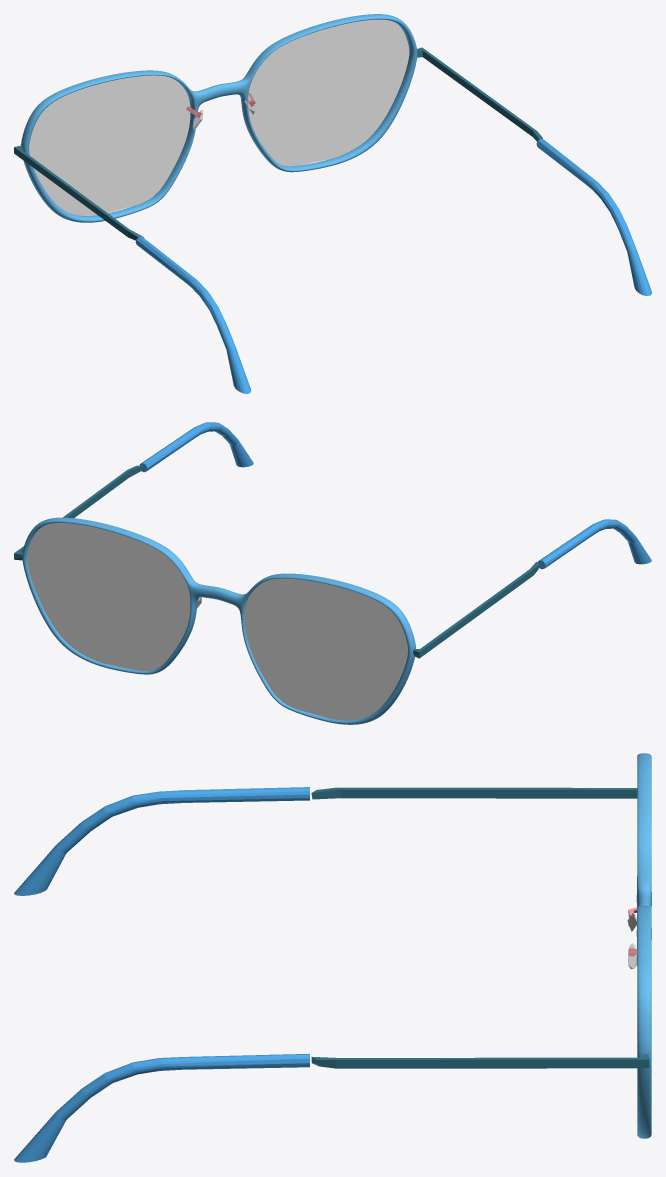
The picture shows the model from 3 angles, top to bottom: view 1: azimuth 30°, elevation 25°; view 2: azimuth 150°, elevation 25°; view 3: azimuth 270°, elevation 25°; orthographic projection. The views are drawn at different scales.
Parts seen in each view (by area): view 1: Plane.001, Plane, Circle, Cube; view 2: Plane.001, Plane, Circle, Cube; view 3: Circle, Cube, Plane.
Boxes of the visible parts, bbox=[...] form: Plane.001: bbox=[29, 19, 409, 215]; Plane: bbox=[21, 14, 417, 222]; Circle: bbox=[135, 139, 651, 393]; Cube: bbox=[14, 47, 542, 240]; Plane.001: bbox=[27, 523, 407, 720]; Plane: bbox=[22, 517, 415, 724]; Circle: bbox=[139, 422, 651, 569]; Cube: bbox=[14, 465, 539, 658]; Circle: bbox=[14, 787, 309, 1162]; Cube: bbox=[311, 787, 649, 1068]; Plane: bbox=[636, 753, 651, 1138].
Size of the model in its own units: 14.71 by 4.83 by 14.41.
